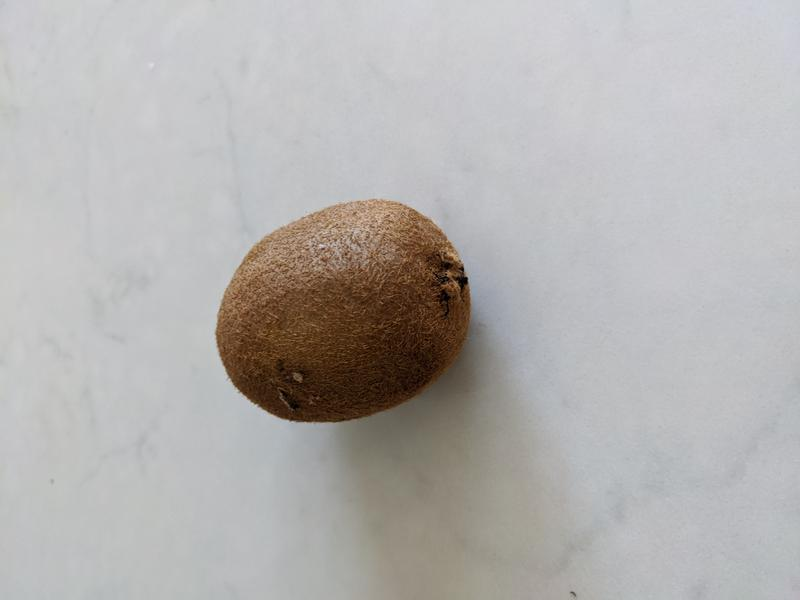kiwi: (214, 198, 472, 423)
